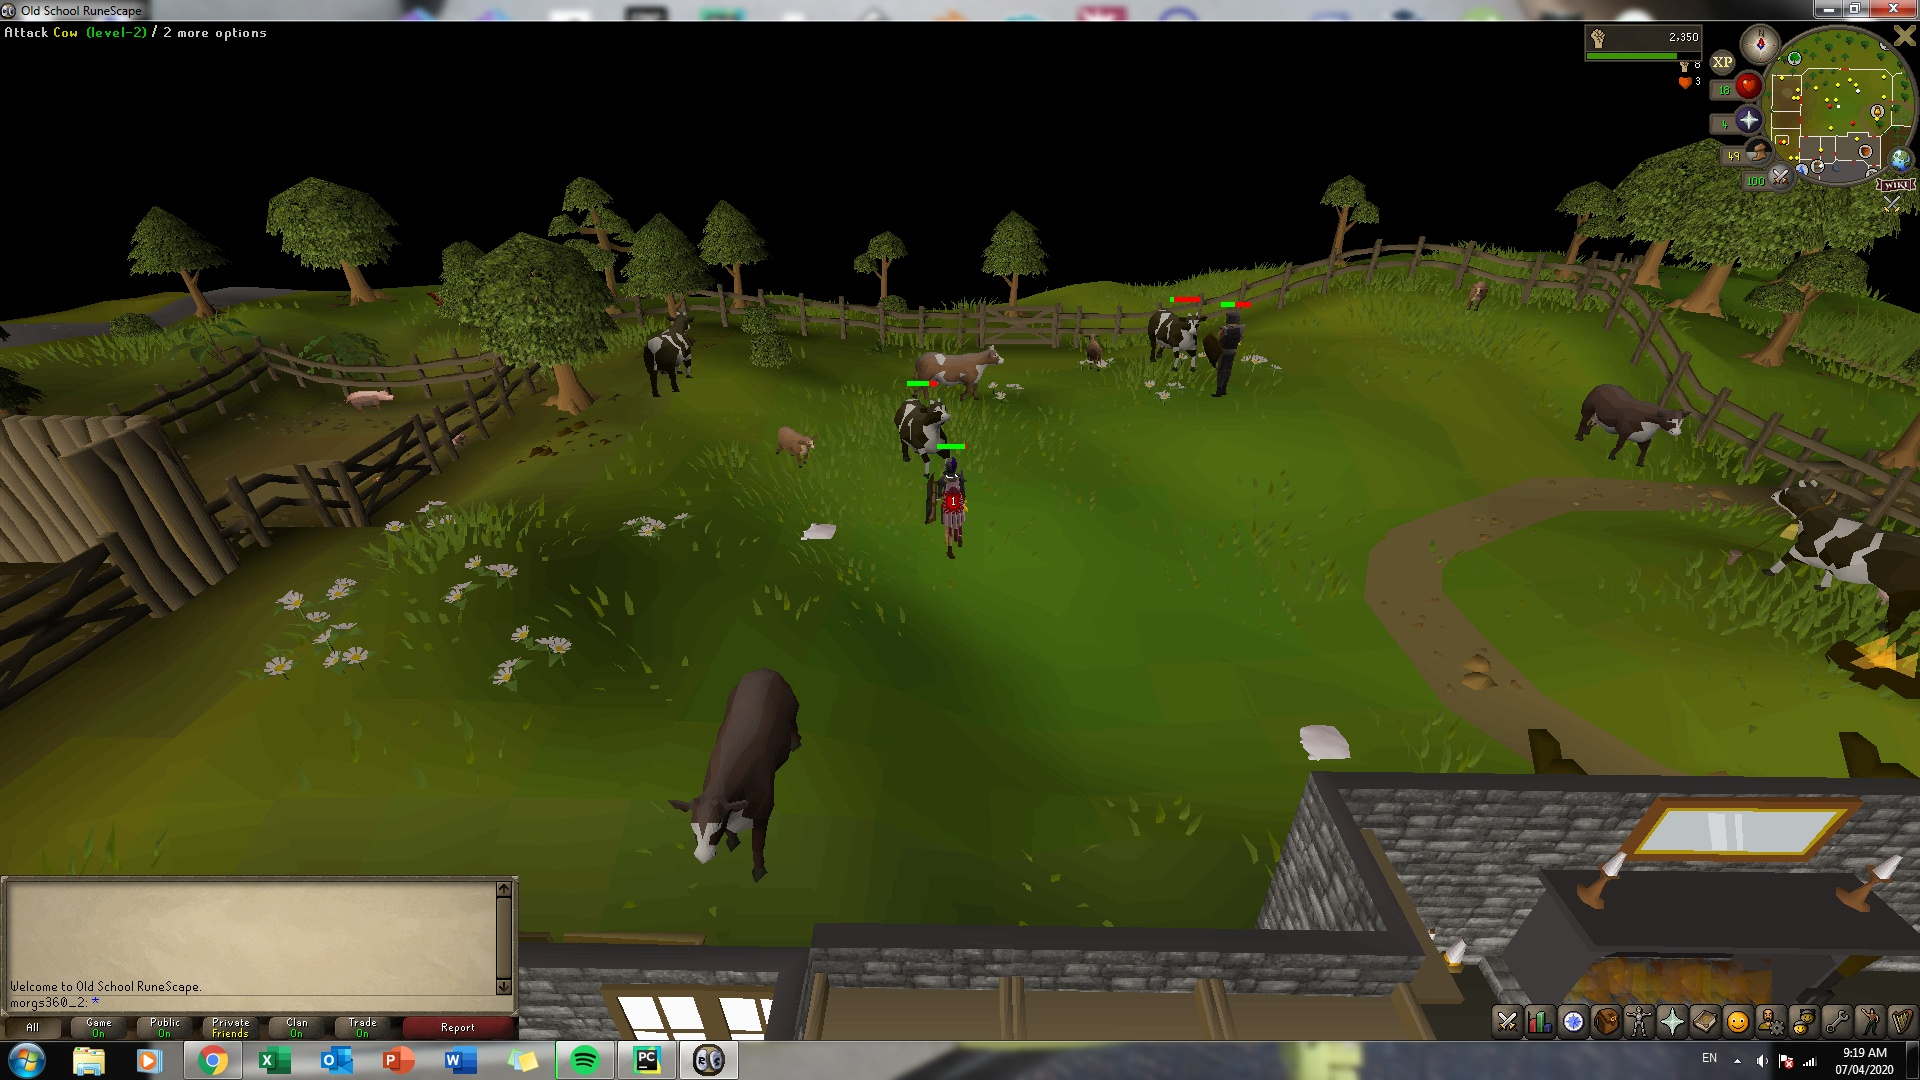cow: (666, 668, 800, 887), (1575, 382, 1687, 471), (907, 343, 1006, 403), (891, 396, 952, 476), (645, 307, 695, 400), (1144, 307, 1207, 375), (769, 425, 823, 471), (1078, 330, 1107, 369)
player: (923, 457, 971, 562)
